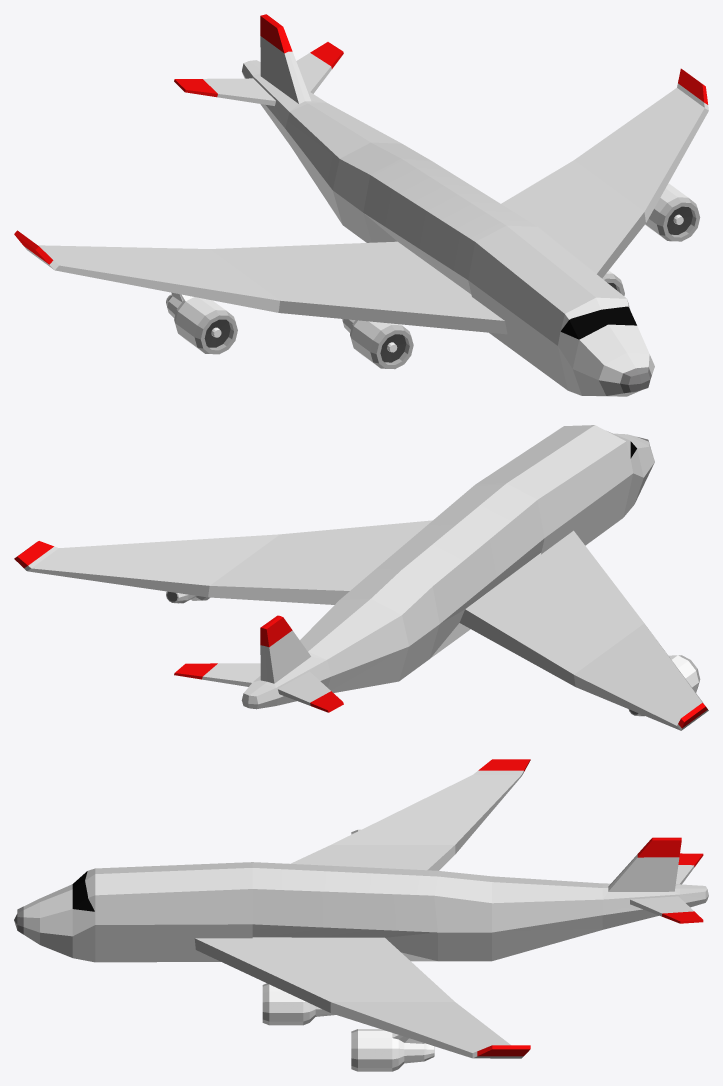
3 renders of one model, top to bottom at view 1: azimuth 30°, elevation 25°; view 2: azimuth 150°, elevation 25°; view 3: azimuth 270°, elevation 25°, orthographic. The views are drawn at different scales.
Visible parts, largest first — view 1: Cube; view 2: Cube; view 3: Cube.
Boxes of the visible parts, left/top/right/bottom form: Cube: left=14, top=14, right=708, bottom=396; Cube: left=14, top=425, right=708, bottom=730; Cube: left=14, top=759, right=708, bottom=1071.
Size of what is drawn, in the model's own units: 40.3 by 9.06 by 40.96.
